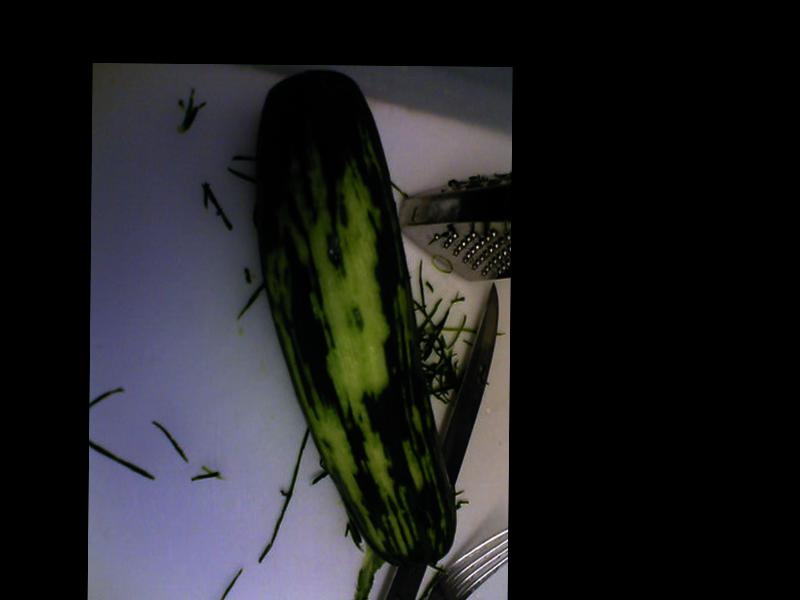Cucumber: (251, 69, 461, 569)
